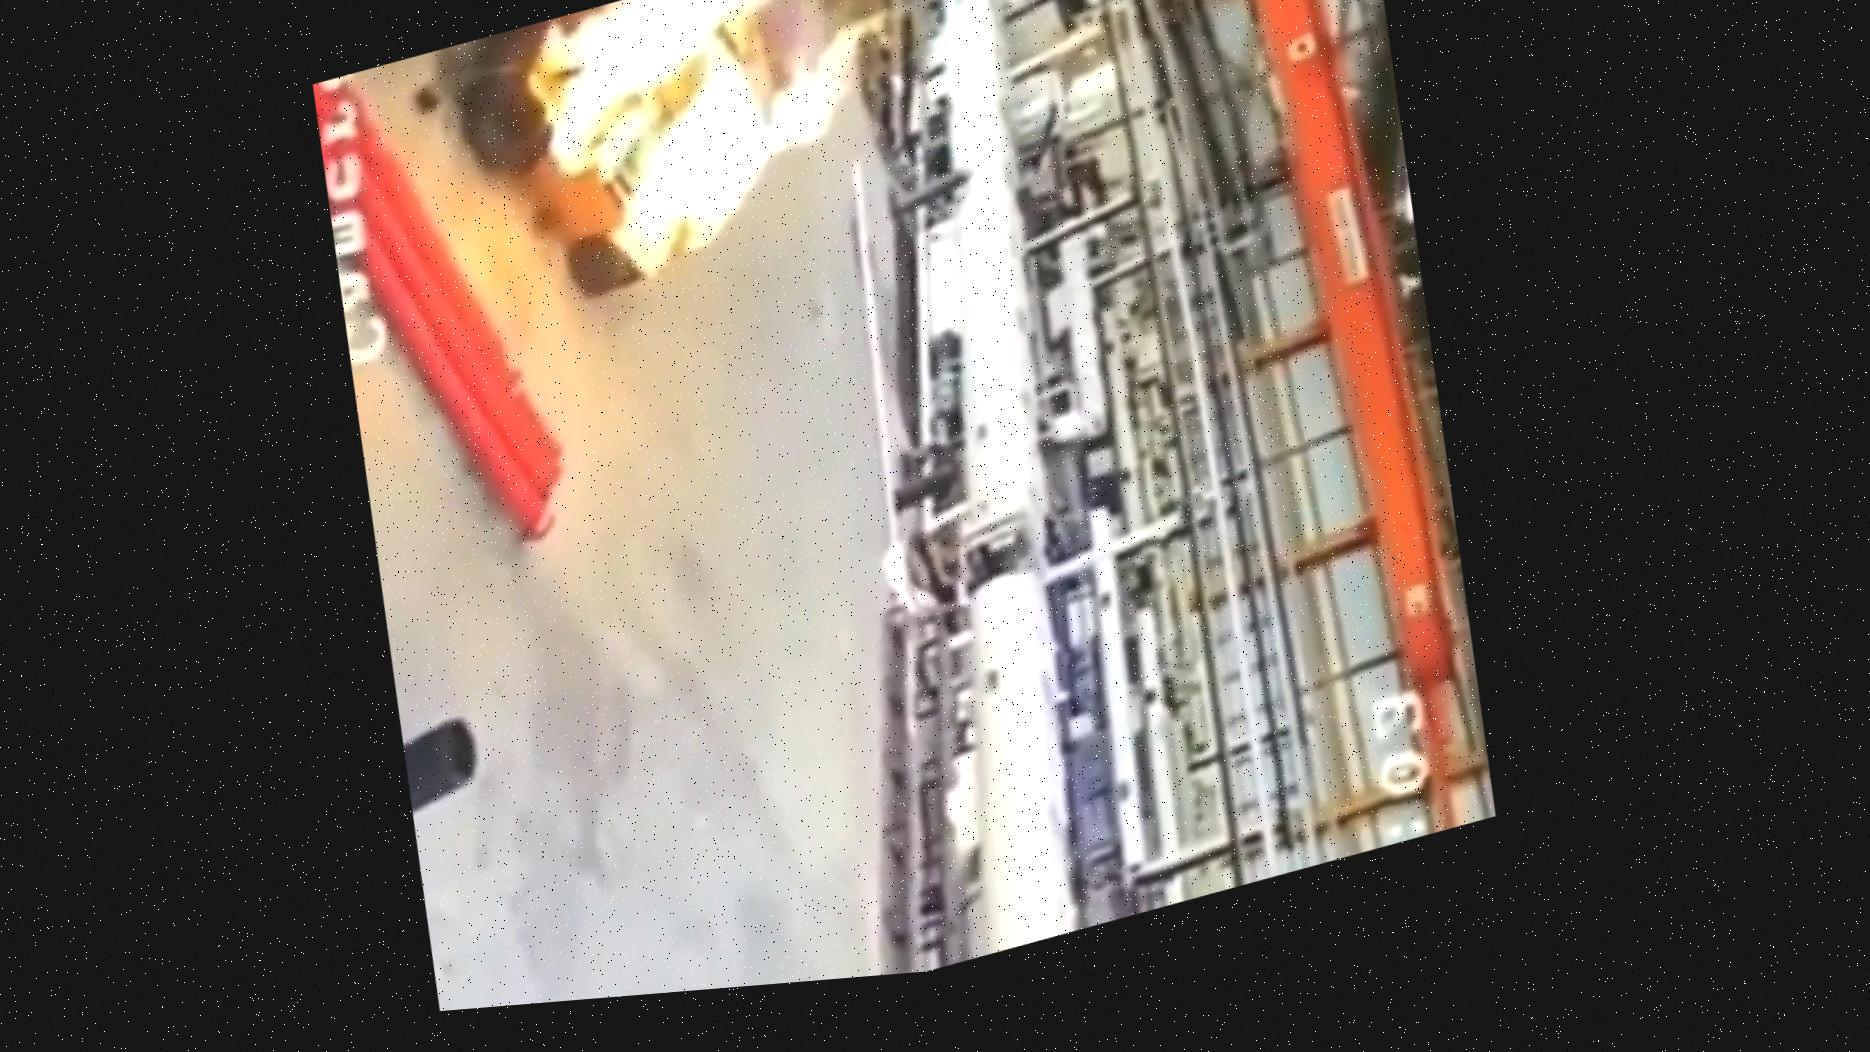fire: (399, 1, 914, 339)
